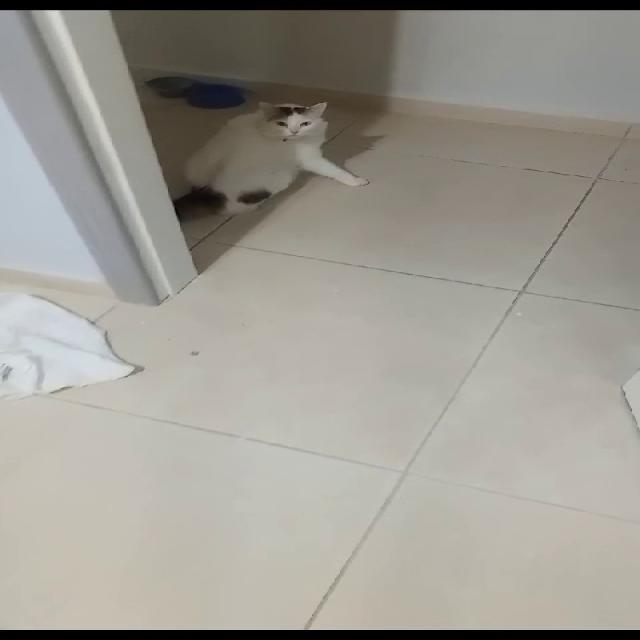Simba: (160, 75, 388, 239)
